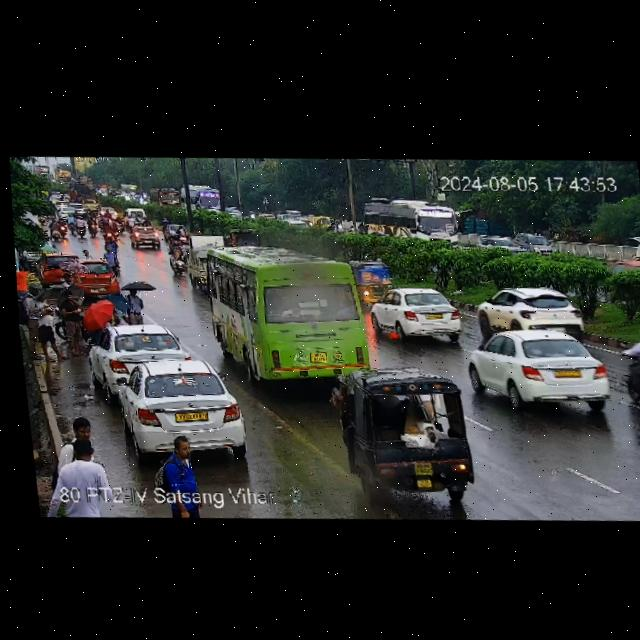bus: (196, 234, 381, 395), (356, 191, 465, 249), (179, 180, 223, 216)
car: (332, 360, 477, 513), (468, 323, 622, 422), (109, 356, 246, 463), (90, 319, 193, 389), (476, 282, 591, 340), (370, 284, 469, 345), (74, 259, 121, 297), (353, 258, 390, 305), (479, 234, 528, 258), (516, 232, 557, 258), (36, 249, 61, 287), (129, 225, 162, 252), (222, 225, 257, 248), (162, 222, 187, 241), (126, 206, 147, 222), (311, 216, 331, 232), (71, 203, 88, 215), (59, 207, 70, 217), (53, 454, 56, 458)
motorcycle: (614, 324, 640, 417), (70, 211, 98, 241), (69, 212, 98, 240), (166, 239, 186, 278), (100, 213, 120, 244), (16, 274, 30, 311), (49, 215, 67, 242), (66, 214, 85, 237), (123, 216, 136, 231), (141, 215, 151, 228), (161, 216, 168, 223)
person: (58, 456, 109, 514), (159, 431, 206, 490), (34, 287, 60, 363), (59, 289, 86, 359), (20, 286, 43, 358), (68, 413, 99, 464), (88, 302, 119, 327), (125, 289, 145, 318), (104, 246, 117, 274), (59, 274, 73, 286), (81, 248, 92, 259)
truck: (183, 234, 208, 291), (149, 186, 182, 211)
